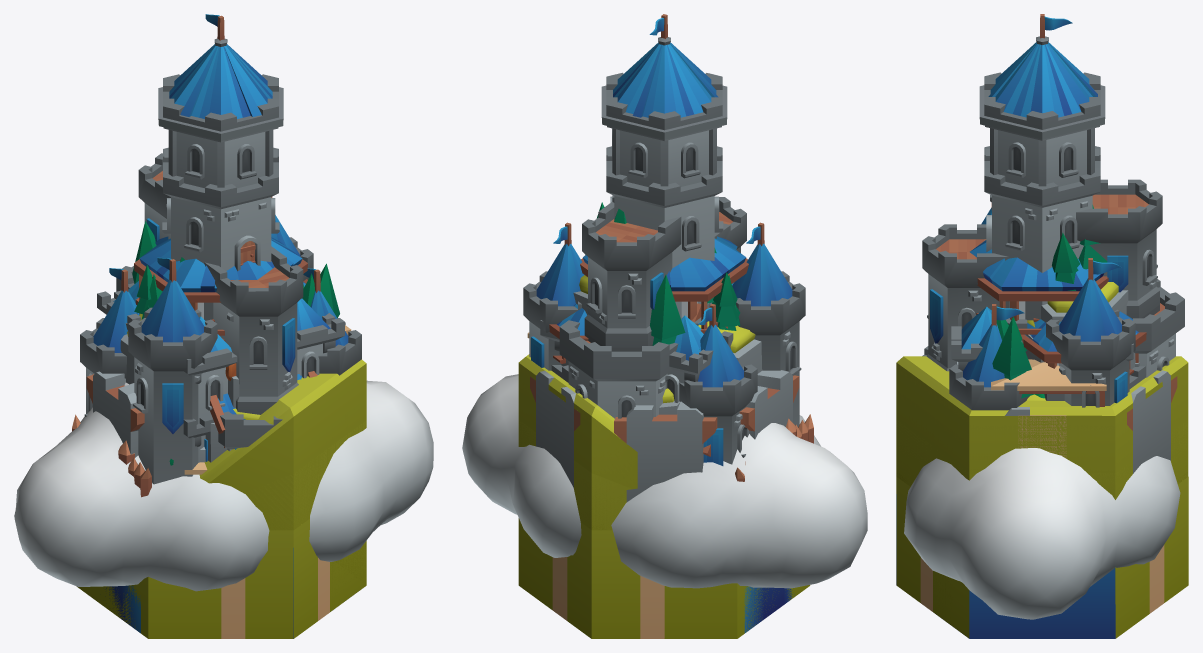
Rendered from medieval.glb.
3 renders of one model, left to right at view 1: azimuth 30°, elevation 25°; view 2: azimuth 150°, elevation 25°; view 3: azimuth 270°, elevation 25°, orthographic.
Visible parts, largest first — view 1: building_castle_blue, cloud_big, hex_grass_sloped_high, hex_river_crossing_B, building_barracks_blue, hex_river_B, building_tower_B_top_blue, hex_river_crossing_A, hex_grass_sloped_low, hex_road_G, hex_road_A_sloped_high, hex_grass (+9 smaller); view 2: building_castle_blue, cloud_big, hex_coast_B_waterless, hex_grass_sloped_high, wall_corner_B_inside, wall_corner_B_outside, hex_coast_E, building_tower_B_top_blue, building_barracks_blue, hex_river_crossing_A, hex_grass_sloped_low, wall_corner_A_outside (+11 smaller); view 3: building_castle_blue, cloud_big, hex_grass_sloped_high, hex_road_A_sloped_high, hex_coast_D, building_tower_B_top_blue, hex_coast_B_waterless, hex_river_crossing_A, mountain_B_grass_trees, building_scaffolding, wall_corner_A_outside, hex_river_C (+10 smaller).
Part boxes in pixels (x1=…): building_castle_blue: x1=80, y1=14, x2=361, y2=484; cloud_big: x1=14, y1=380, x2=433, y2=591; hex_grass_sloped_high: x1=199, y1=359, x2=366, y2=610; hex_river_crossing_B: x1=221, y1=530, x2=293, y2=638; building_barracks_blue: x1=97, y1=281, x2=344, y2=462; hex_river_B: x1=105, y1=530, x2=293, y2=638; building_tower_B_top_blue: x1=134, y1=236, x2=307, y2=341; hex_river_crossing_A: x1=293, y1=519, x2=329, y2=638; hex_grass_sloped_low: x1=249, y1=449, x2=359, y2=611; hex_road_G: x1=221, y1=564, x2=291, y2=638; hex_road_A_sloped_high: x1=200, y1=373, x2=366, y2=600; hex_grass: x1=330, y1=541, x2=366, y2=611; building_castle_blue: x1=523, y1=14, x2=805, y2=465; cloud_big: x1=462, y1=374, x2=867, y2=588; hex_coast_B_waterless: x1=538, y1=522, x2=729, y2=638; hex_grass_sloped_high: x1=518, y1=354, x2=637, y2=530; wall_corner_B_inside: x1=614, y1=375, x2=799, y2=491; wall_corner_B_outside: x1=626, y1=370, x2=788, y2=502; hex_coast_E: x1=664, y1=586, x2=736, y2=638; building_tower_B_top_blue: x1=580, y1=236, x2=748, y2=333; building_barracks_blue: x1=540, y1=283, x2=733, y2=402; hex_river_crossing_A: x1=627, y1=567, x2=664, y2=638; hex_grass_sloped_low: x1=518, y1=421, x2=632, y2=530; wall_corner_A_outside: x1=536, y1=372, x2=792, y2=488; building_castle_blue: x1=922, y1=14, x2=1184, y2=410; cloud_big: x1=904, y1=448, x2=1180, y2=619; hex_grass_sloped_high: x1=896, y1=356, x2=1188, y2=630; hex_road_A_sloped_high: x1=896, y1=356, x2=1188, y2=611; hex_coast_D: x1=936, y1=567, x2=1115, y2=638; building_tower_B_top_blue: x1=970, y1=240, x2=1108, y2=348; hex_coast_B_waterless: x1=1135, y1=477, x2=1188, y2=623; hex_river_crossing_A: x1=896, y1=477, x2=932, y2=611; mountain_B_grass_trees: x1=996, y1=205, x2=1135, y2=400; building_scaffolding: x1=991, y1=359, x2=1106, y2=406; wall_corner_A_outside: x1=1133, y1=376, x2=1177, y2=460; hex_river_C: x1=933, y1=571, x2=969, y2=638.
Size of the model in its own units: 3.61 by 4.98 by 2.31.
Materials: 1 (1 with a texture image).
